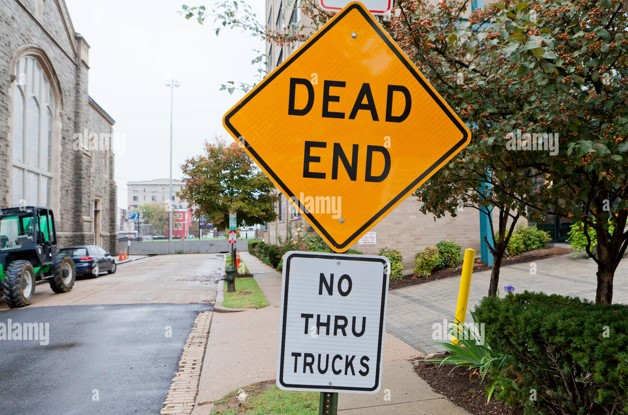Deadend: (221, 3, 473, 254)
